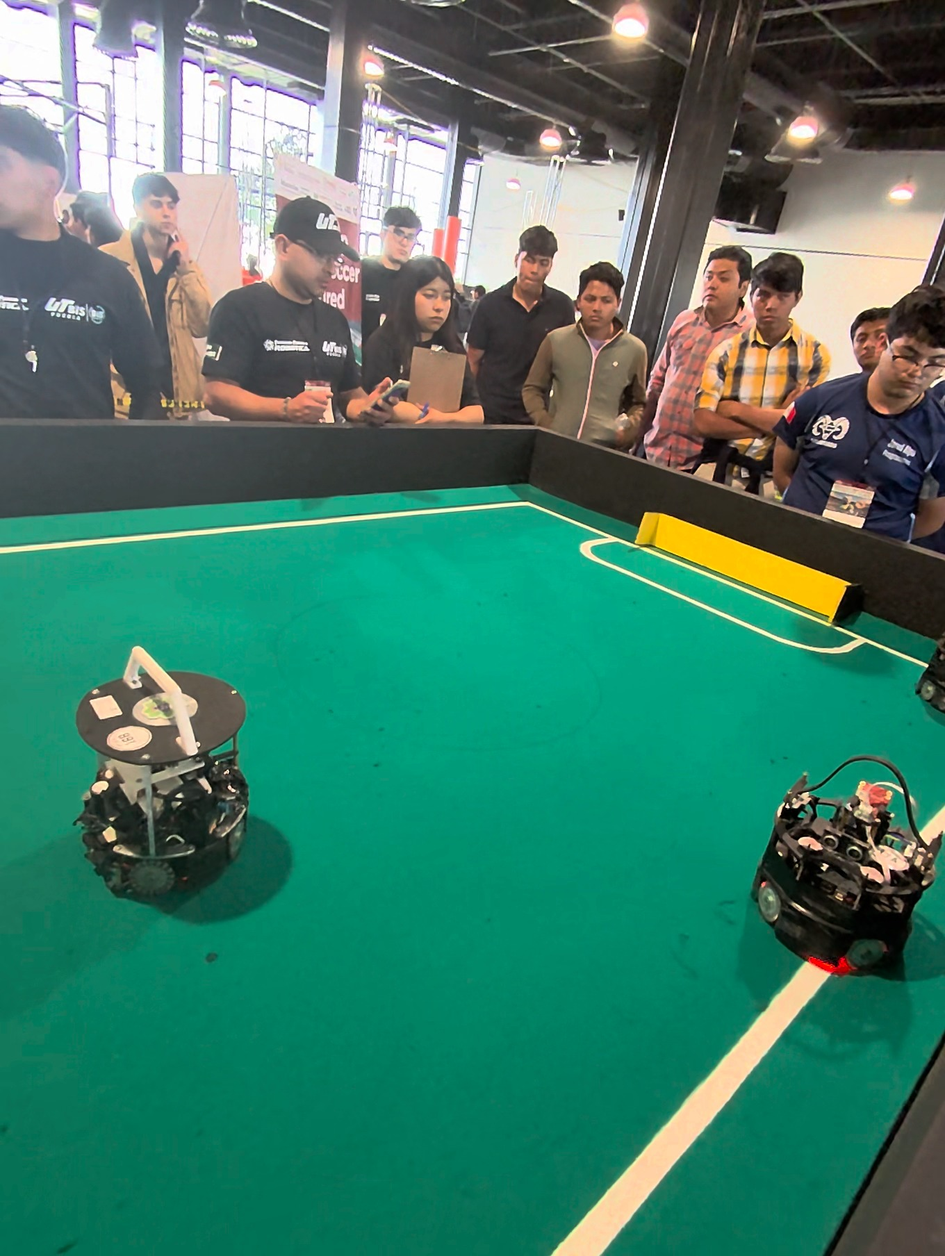Robot: (63, 631, 267, 915), (752, 738, 943, 992), (915, 622, 945, 727)
